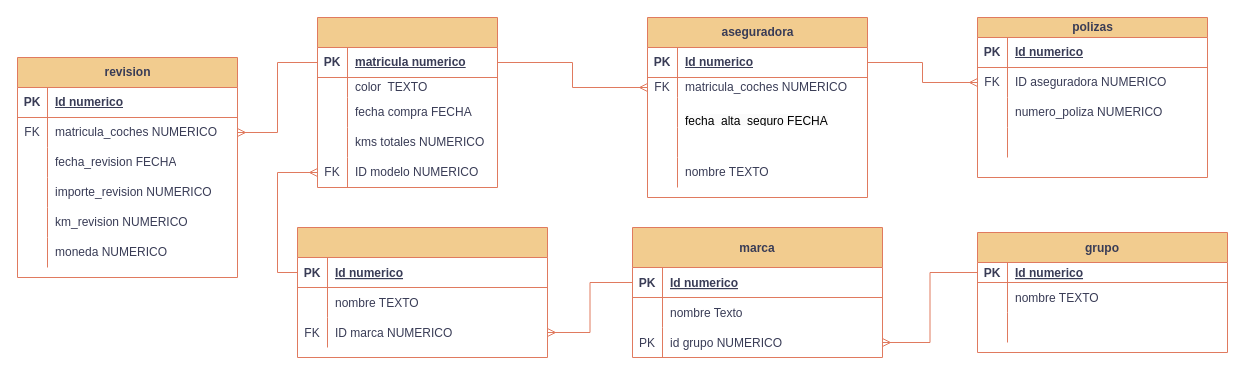
Some shapes in this 1245 by 375 pixel diagram are drawn without their labels. Each missing label, with the box of its shape:
coches: (316, 16, 498, 188)
modelo: (296, 226, 548, 358)
